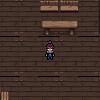Obstacle: (39, 18, 79, 36), (38, 0, 60, 15), (60, 0, 79, 15)
Victim: (44, 39, 57, 61)
